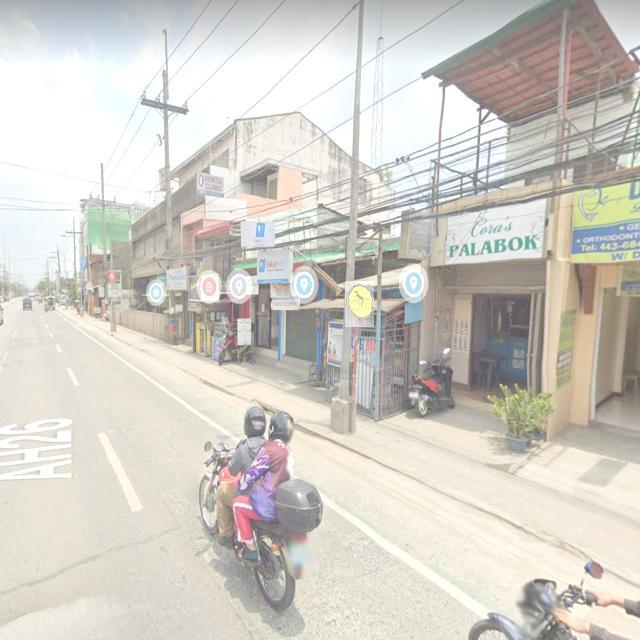bike lane: (345, 281, 374, 327)
